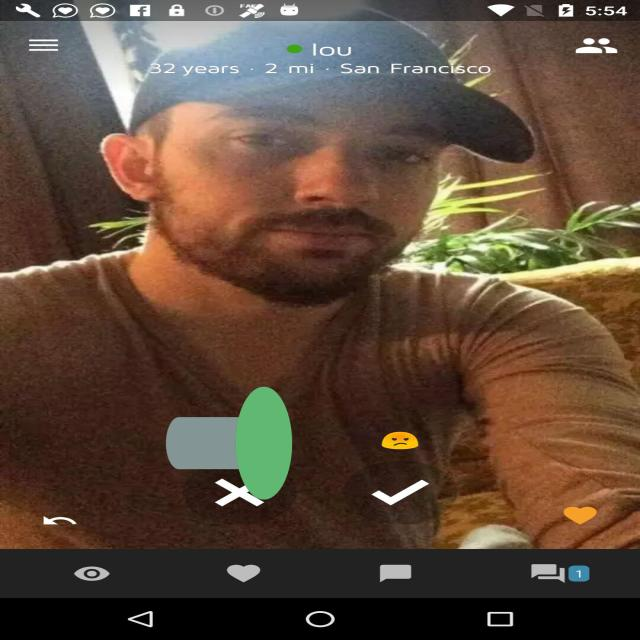social proof: (166, 317, 292, 569)
